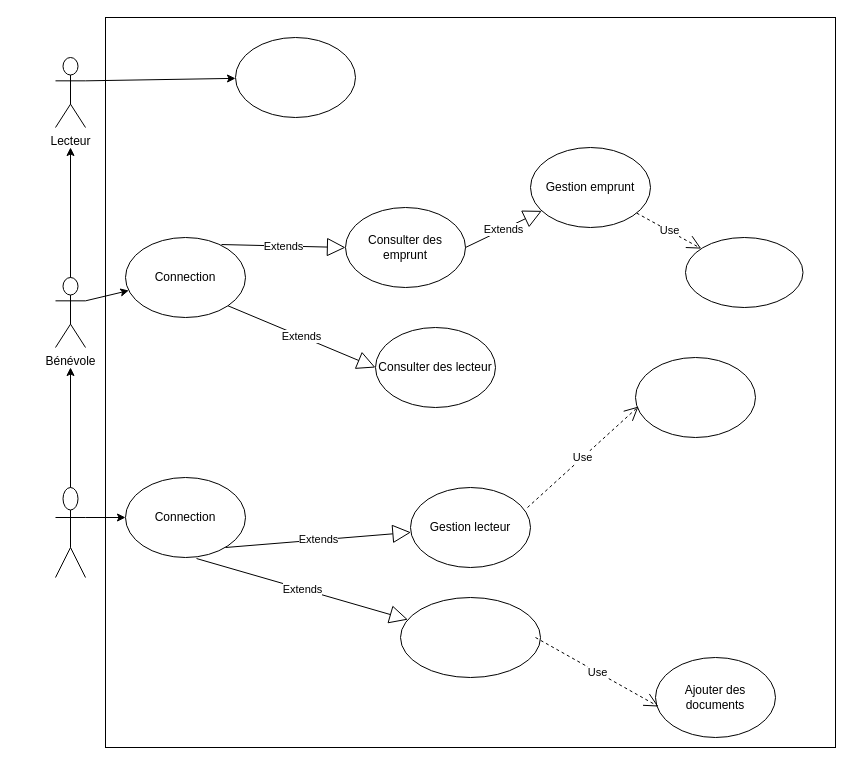
The diagram is 853 pixels wide and 765 high, and some of its shapes have lost their labels. The shapes that lost their labels are listed below. From the top down, each one's centre as x and y in pixels, then its label:
point 295,77: Recherche des documents
point 743,272: Enregistrement emprunt
point 695,397: Inscription
point 70,532: personnel(Employé)
point 470,637: Gestion document
